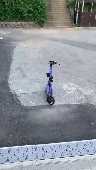beam: (44, 59, 59, 107)
